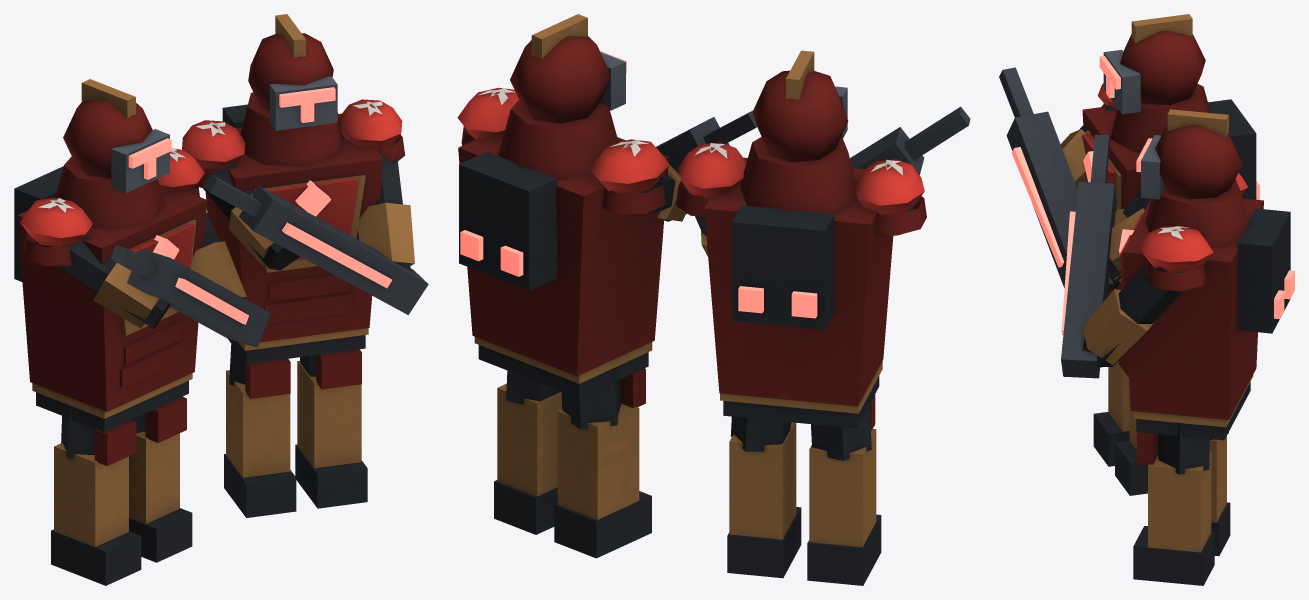
File: sentry_dl8_red.glb
The picture shows the model from 3 angles, left to right: view 1: azimuth 30°, elevation 25°; view 2: azimuth 150°, elevation 25°; view 3: azimuth 270°, elevation 25°; orthographic projection. The views are drawn at different scales.
Parts seen in each view (by area): view 1: sentry_dl8_red; view 2: sentry_dl8_red; view 3: sentry_dl8_red.
Boxes of the visible parts, x1,y1,x2,y2 form: sentry_dl8_red: [14, 14, 428, 585]; sentry_dl8_red: [457, 14, 970, 585]; sentry_dl8_red: [999, 14, 1294, 585].
Bounding box in the file's own units: 0.3692 × 0.4109 × 0.2479.
Materials: 2 (1 with a texture image).
